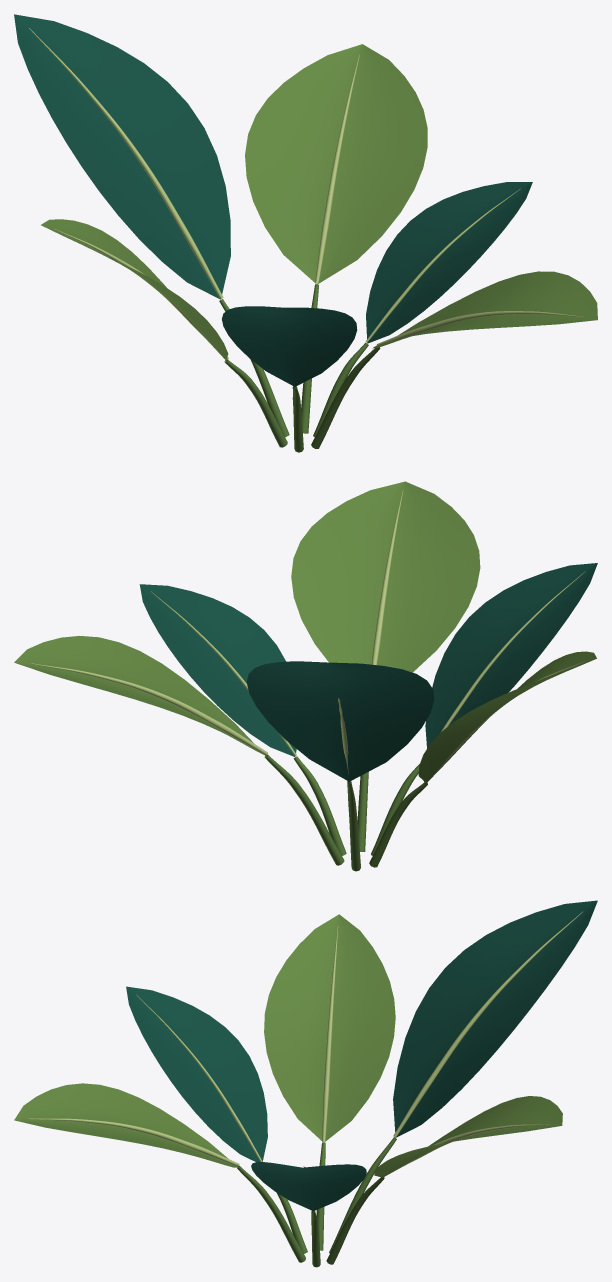
The model's file is broadleaf.glb.
The picture shows the model from 3 angles, top to bottom: view 1: azimuth 30°, elevation 25°; view 2: azimuth 150°, elevation 25°; view 3: azimuth 270°, elevation 25°; orthographic projection. The views are drawn at different scales.
Parts seen in each view (by area): view 1: broadleaf; view 2: broadleaf; view 3: broadleaf.
Boxes of the visible parts, x1,y1,x2,y2 form: broadleaf: (14, 14, 597, 452); broadleaf: (14, 481, 597, 871); broadleaf: (14, 900, 597, 1267).
Size of the model in its own units: 2.04 by 1.42 by 2.48.
